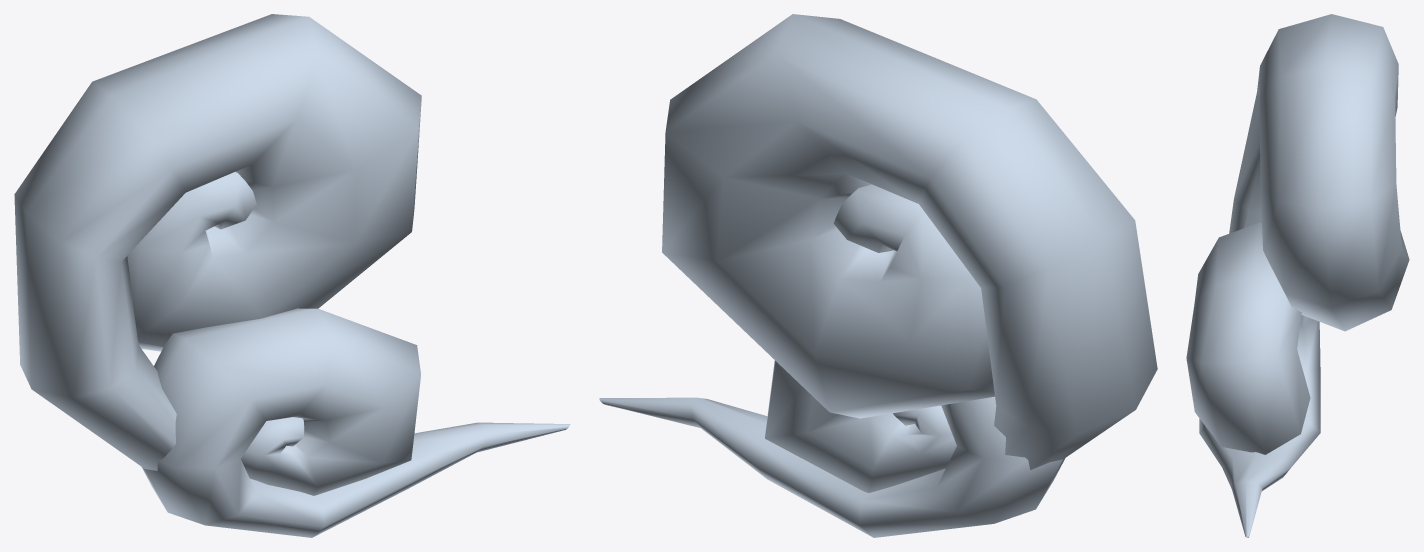
The model's file is cloud_02.fbx.
The picture shows the model from 3 angles, left to right: view 1: azimuth 30°, elevation 25°; view 2: azimuth 150°, elevation 25°; view 3: azimuth 270°, elevation 25°; orthographic projection. The views are drawn at different scales.
Visible parts, largest first — view 1: cloud_02; view 2: cloud_02; view 3: cloud_02.
Part boxes in pixels (bbox=[...]): cloud_02: bbox=[14, 14, 570, 537]; cloud_02: bbox=[599, 14, 1157, 537]; cloud_02: bbox=[1186, 14, 1409, 537].
Size of the model in its own units: 553 by 484 by 239.
